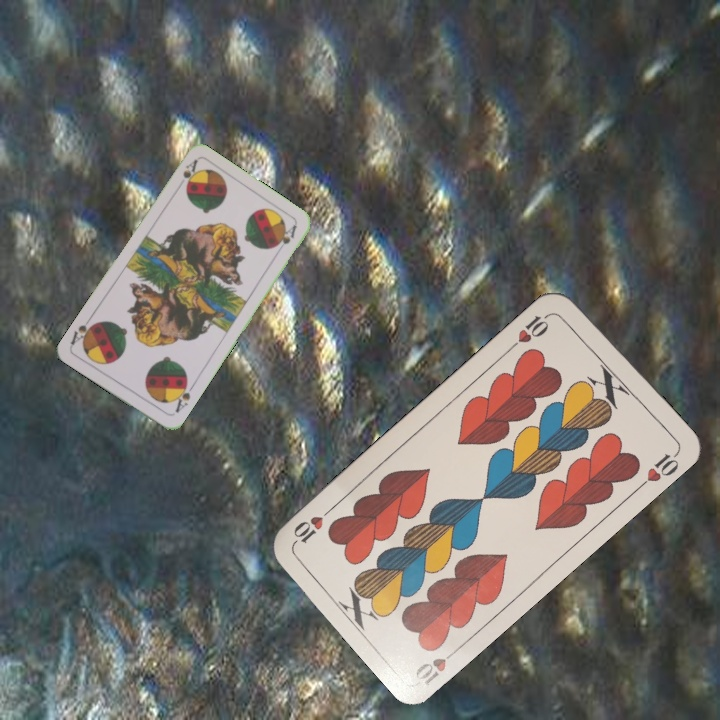H10: (409, 642, 463, 688), (507, 308, 556, 352)
SA: (169, 377, 197, 416), (179, 156, 200, 191)
